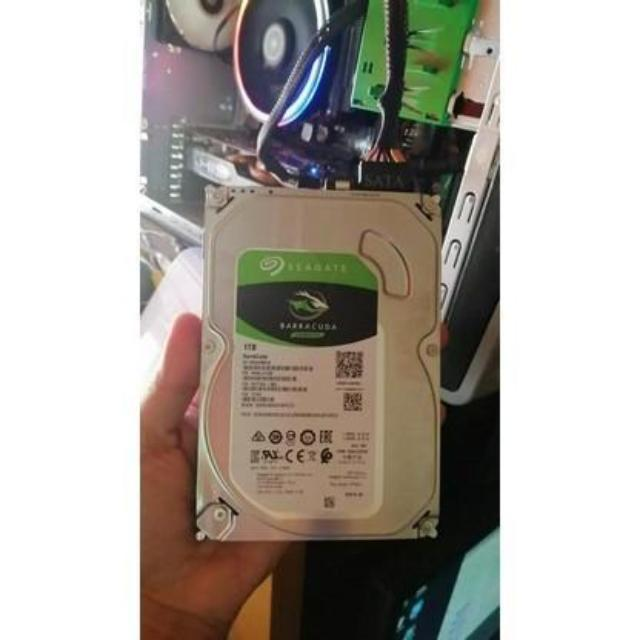DISK: (192, 180, 437, 545)
